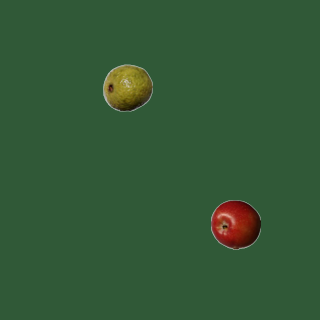Apple Braeburn: (210, 199, 260, 249)
Guava: (102, 62, 152, 112)
